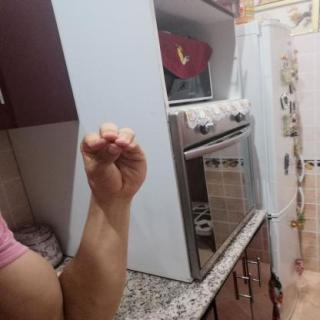HA: (70, 116, 158, 206)
